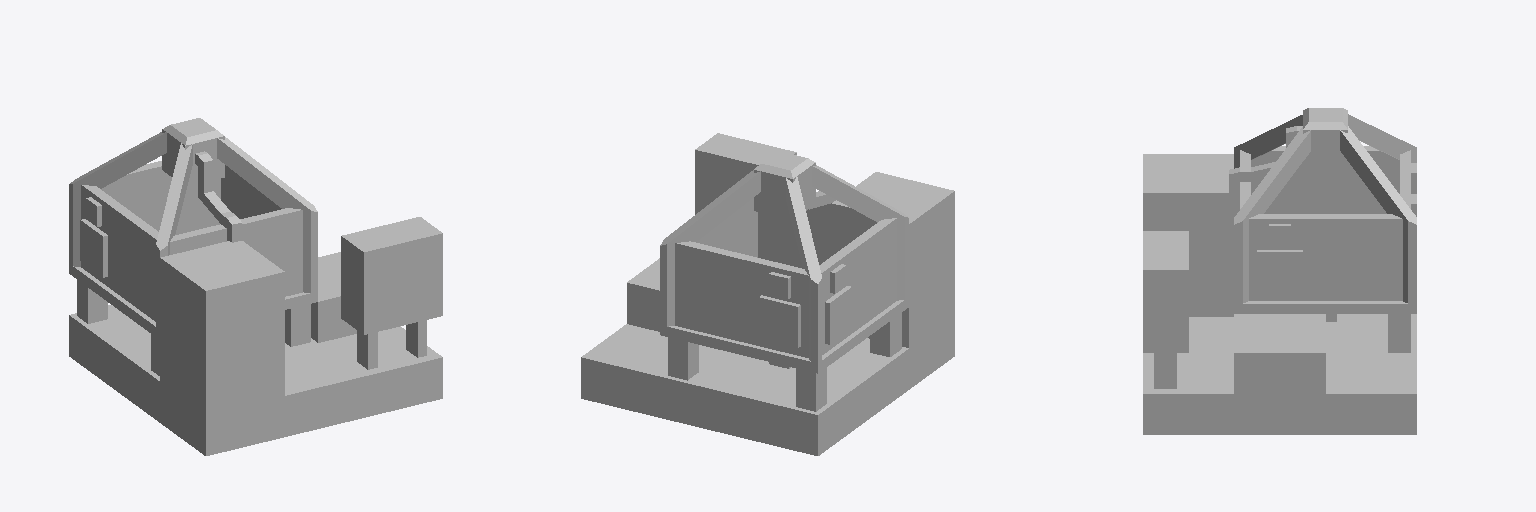
File: squeezer.obj
The picture shows the model from 3 angles: view 1: azimuth 30°, elevation 25°; view 2: azimuth 150°, elevation 25°; view 3: azimuth 270°, elevation 25°; orthographic projection.
Visible parts, largest first — view 1: base; view 2: base; view 3: base.
Boxes of the visible parts, x1=… form: base: x1=69, y1=118, x2=442, y2=455; base: x1=581, y1=133, x2=954, y2=455; base: x1=1143, y1=108, x2=1416, y2=434.
Bounding box in the file's own units: 3 × 2.94 × 3.